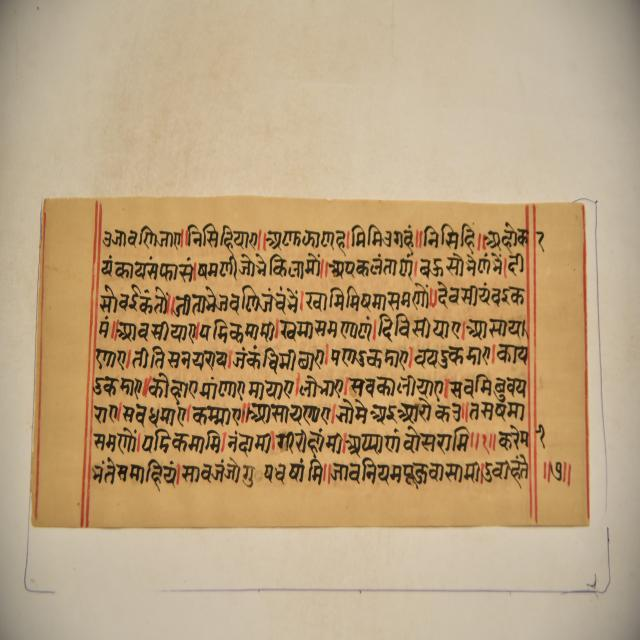text_paragraph: (28, 194, 589, 531)
